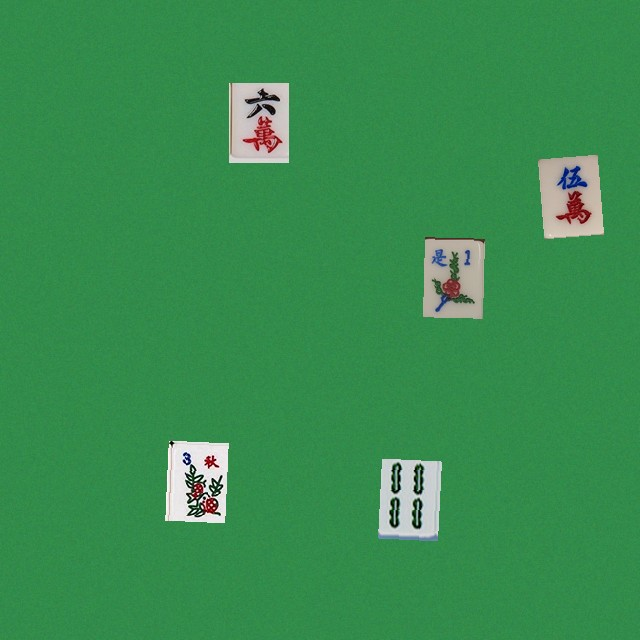tile: (537, 154, 597, 234), (228, 82, 288, 162), (422, 237, 482, 317), (378, 458, 438, 538), (165, 440, 225, 520)
